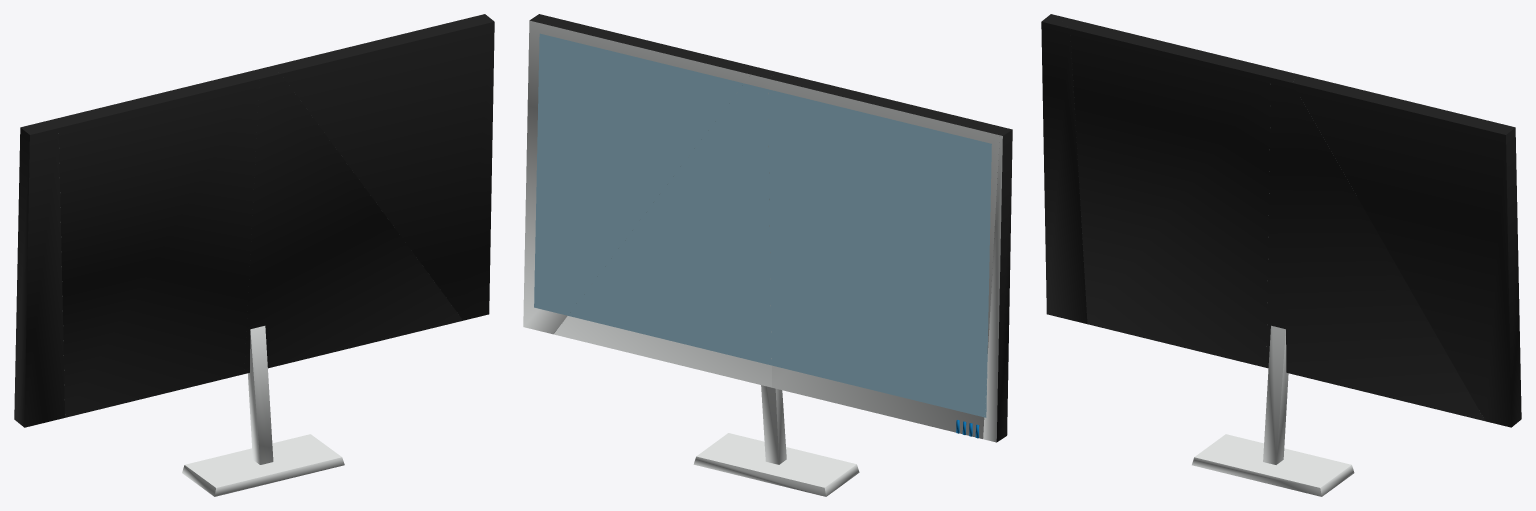
File: Man hinh_Fractured.fbx
3 views of the same model, side by side, from view 1: azimuth 30°, elevation 25°; view 2: azimuth 150°, elevation 25°; view 3: azimuth 330°, elevation 25° (orthographic).
Parts seen in each view (by area): view 1: polySurface1232.002_cell.008, polySurface1232.002_cell.001, polySurface1232.002_cell.003, polySurface1232.002_cell.002, polySurface1232.001, polySurface1232.003; view 2: polySurface1232.002_cell.007, polySurface1232.002_cell.009, polySurface1232.002_cell.011, polySurface1232.002_cell.008, polySurface1232.002_cell.001, polySurface1232.002_cell.002, polySurface1232.002_cell.003, polySurface1232.001, polySurface1232.003; view 3: polySurface1232.002_cell.008, polySurface1232.002_cell.001, polySurface1232.002_cell.003, polySurface1232.002_cell.002, polySurface1232.001, polySurface1232.003.
Boxes of the visible parts, left/top/right/bottom form: polySurface1232.002_cell.008: left=24, top=71, right=259, bottom=417; polySurface1232.002_cell.001: left=268, top=14, right=494, bottom=320; polySurface1232.002_cell.003: left=244, top=67, right=462, bottom=373; polySurface1232.002_cell.002: left=14, top=126, right=65, bottom=427; polySurface1232.001: left=182, top=434, right=344, bottom=496; polySurface1232.003: left=247, top=326, right=273, bottom=464; polySurface1232.002_cell.007: left=768, top=89, right=991, bottom=417; polySurface1232.002_cell.009: left=534, top=33, right=743, bottom=315; polySurface1232.002_cell.011: left=568, top=83, right=771, bottom=365; polySurface1232.002_cell.008: left=768, top=72, right=999, bottom=438; polySurface1232.002_cell.001: left=523, top=14, right=756, bottom=334; polySurface1232.002_cell.002: left=983, top=122, right=1012, bottom=442; polySurface1232.002_cell.003: left=553, top=67, right=778, bottom=387; polySurface1232.001: left=693, top=433, right=859, bottom=496; polySurface1232.003: left=761, top=385, right=786, bottom=464; polySurface1232.002_cell.008: left=1054, top=15, right=1280, bottom=367; polySurface1232.002_cell.001: left=1292, top=74, right=1521, bottom=427; polySurface1232.002_cell.003: left=1266, top=70, right=1484, bottom=420; polySurface1232.002_cell.002: left=1041, top=14, right=1087, bottom=324; polySurface1232.001: left=1192, top=434, right=1354, bottom=496; polySurface1232.003: left=1263, top=325, right=1288, bottom=464.
Size of the model in its own units: 5603 by 4502 by 705.
